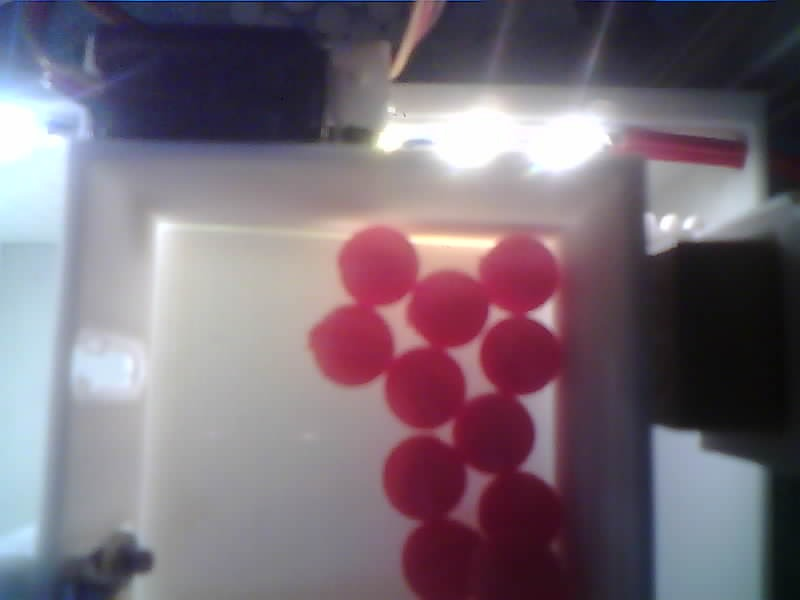Plastic: (306, 304, 394, 386), (382, 436, 466, 520), (478, 475, 568, 553), (384, 349, 467, 431), (409, 262, 487, 346), (478, 316, 561, 394), (453, 396, 538, 472), (404, 524, 487, 600), (484, 237, 558, 318), (338, 230, 415, 304), (484, 552, 559, 600)
